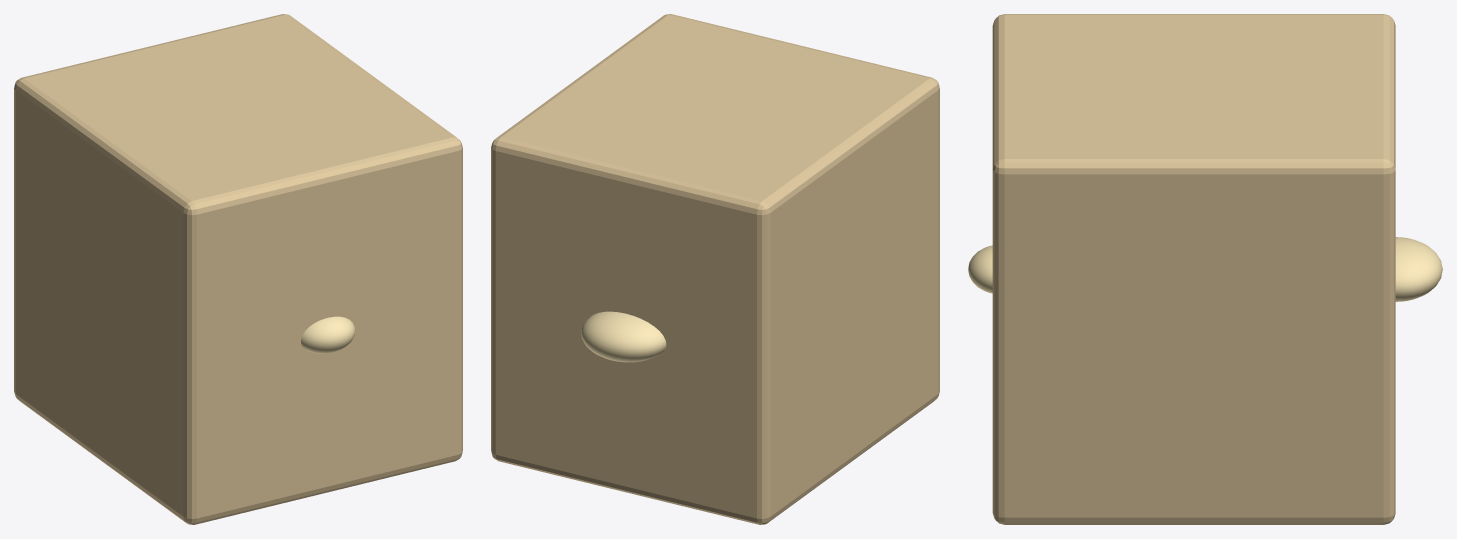
The model's file is surfboard.glb.
The picture shows the model from 3 angles, left to right: view 1: azimuth 30°, elevation 25°; view 2: azimuth 150°, elevation 25°; view 3: azimuth 270°, elevation 25°; orthographic projection. The views are drawn at different scales.
Parts seen in each view (by area): view 1: board_core, tail; view 2: board_core, nose; view 3: board_core, nose, tail.
Part boxes in pixels (box(x1,y1,x2,y2)): board_core: box(14, 14, 462, 524); tail: box(301, 316, 355, 353); board_core: box(491, 14, 939, 524); nose: box(581, 311, 666, 362); board_core: box(992, 14, 1395, 524); nose: box(1395, 237, 1442, 301); tail: box(968, 245, 992, 293).
Bounding box in the file's own units: 1.8 × 2 × 2.36.
